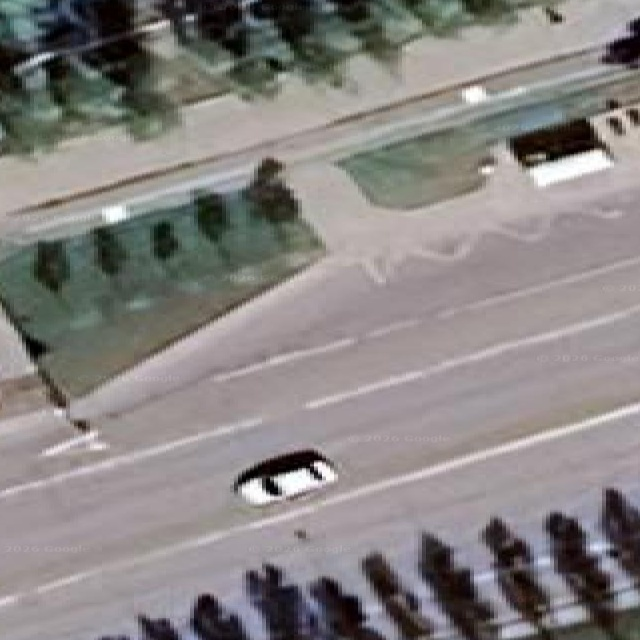car: (507, 119, 612, 187), (232, 449, 335, 504), (190, 592, 247, 639), (600, 32, 639, 67), (136, 615, 180, 639), (544, 5, 563, 23), (607, 116, 624, 135), (627, 16, 639, 32), (628, 108, 639, 125), (99, 635, 128, 639)
